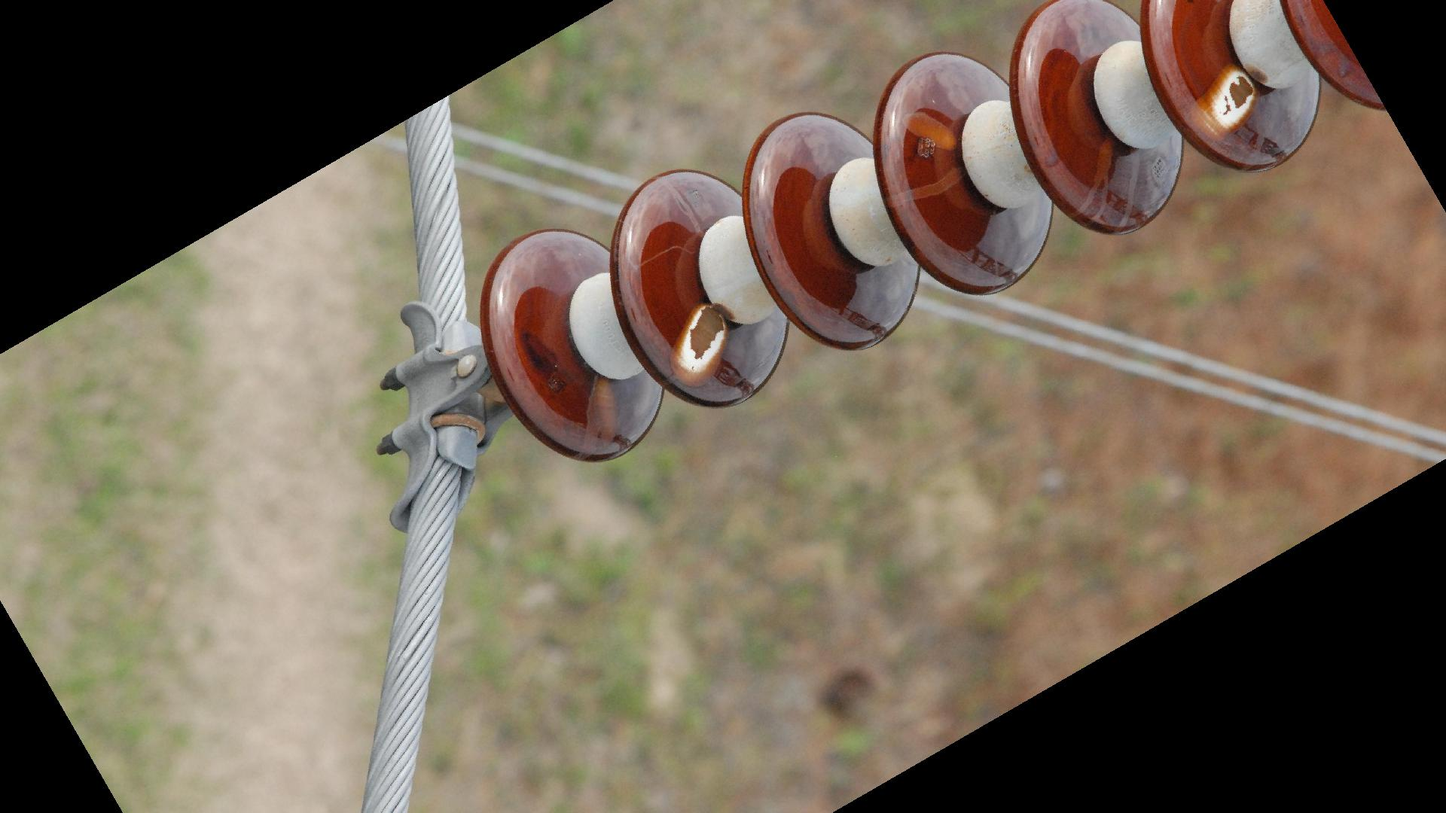insulator: (474, 1, 1381, 469)
insulator_flashover: (1185, 64, 1261, 142), (666, 302, 731, 390), (576, 375, 642, 461), (895, 108, 962, 154)
